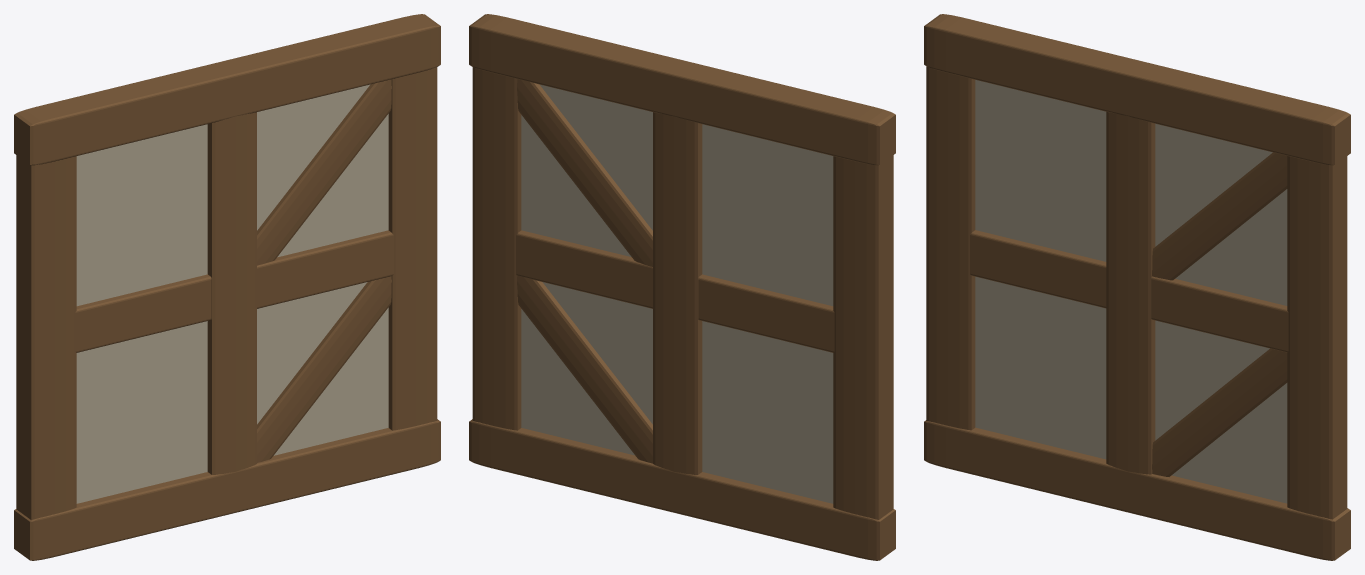
3 views of the same model, side by side, from view 1: azimuth 30°, elevation 25°; view 2: azimuth 150°, elevation 25°; view 3: azimuth 330°, elevation 25° (orthographic).
Parts seen in each view (by area): view 1: Cube.025; view 2: Cube.025; view 3: Cube.025.
Boxes of the visible parts, x1,y1,x2,y2 form: Cube.025: [14, 14, 440, 560]; Cube.025: [469, 14, 895, 560]; Cube.025: [924, 14, 1350, 560].
Size of the model in its own units: 207 by 212 by 15.54.
